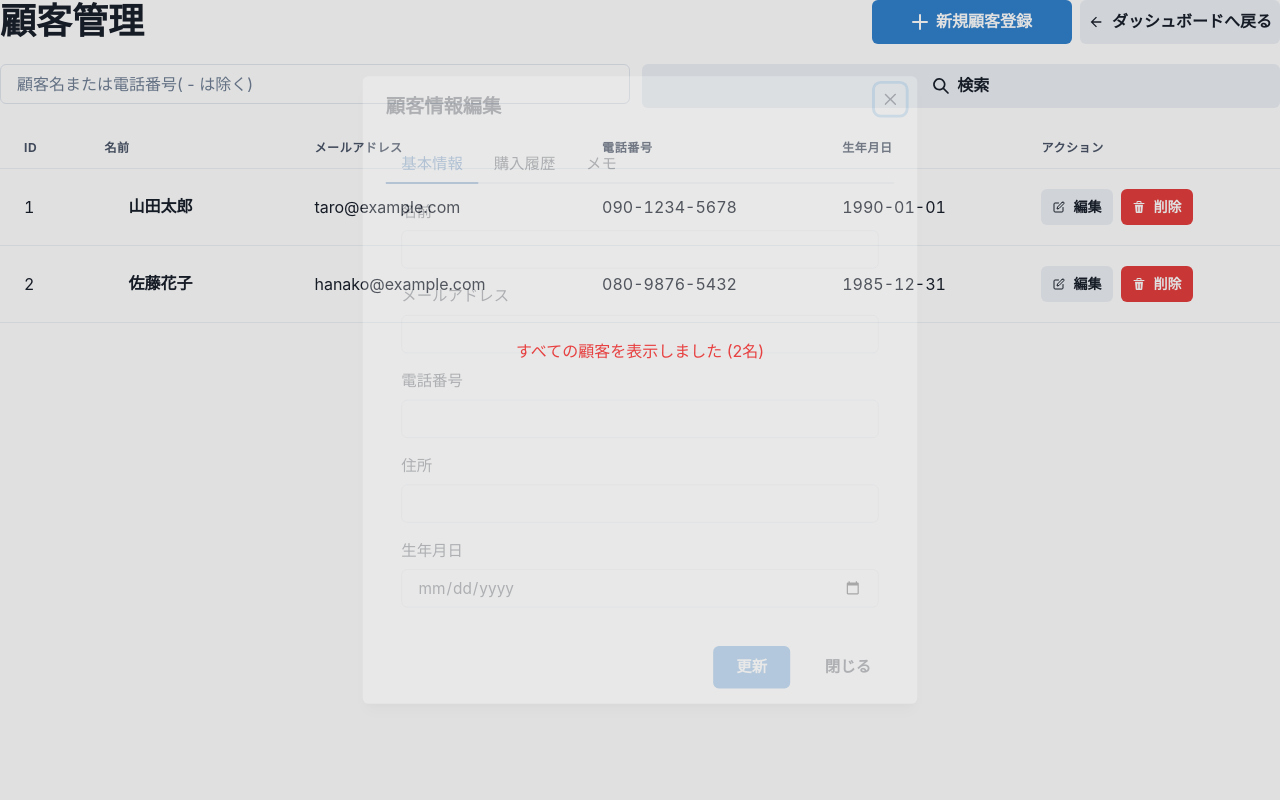
Test case: CustomerManagementTemplate コンポーネント › 編集モードでの購入履歴表示が正しく動作する
Expected: the text "顧客情報編集" is shown, x1=386 y1=94 x2=501 y2=118
Click the tab "購入履歴". click: (524, 164)
box: x1=478 y1=144 x2=571 y2=184
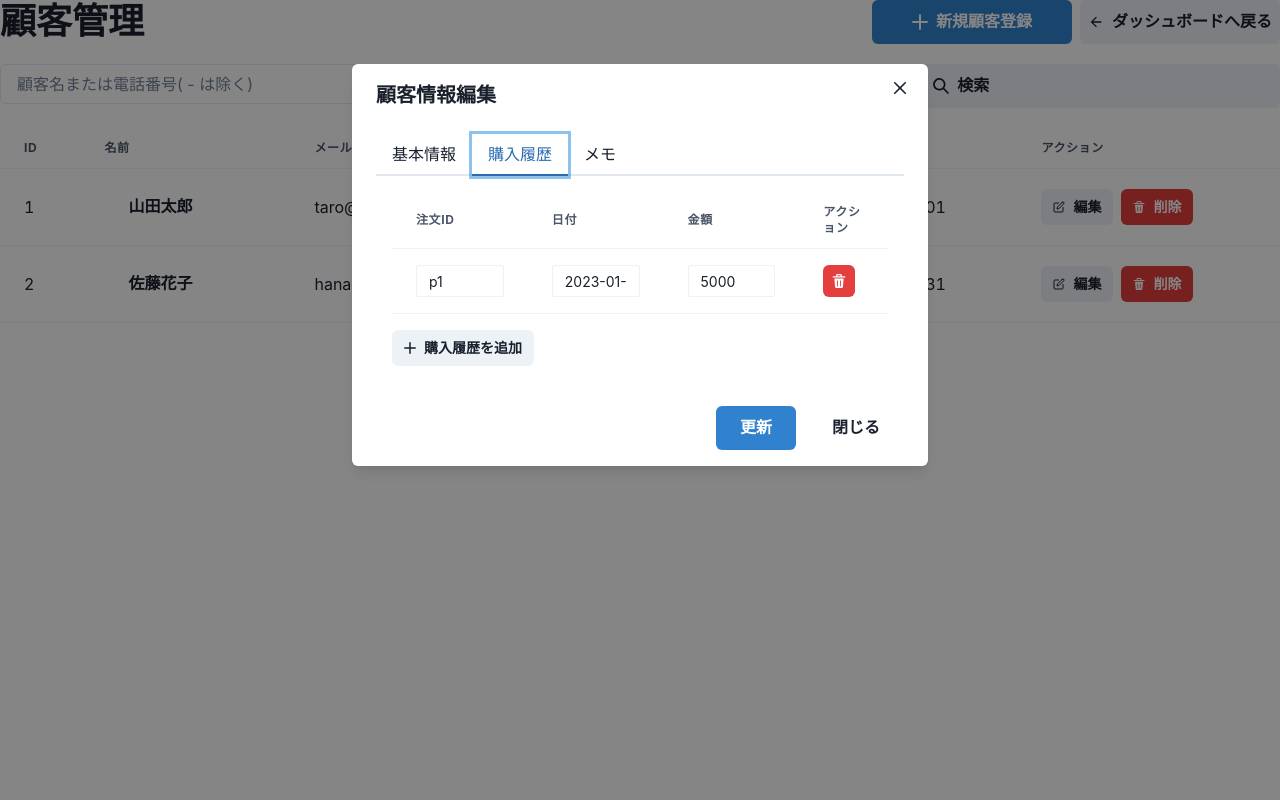
Result: the button "購入履歴を追加" is shown at x1=392 y1=330 x2=534 y2=366
Result: the button named "Delete purchase" is shown at x1=823 y1=265 x2=855 y2=297
